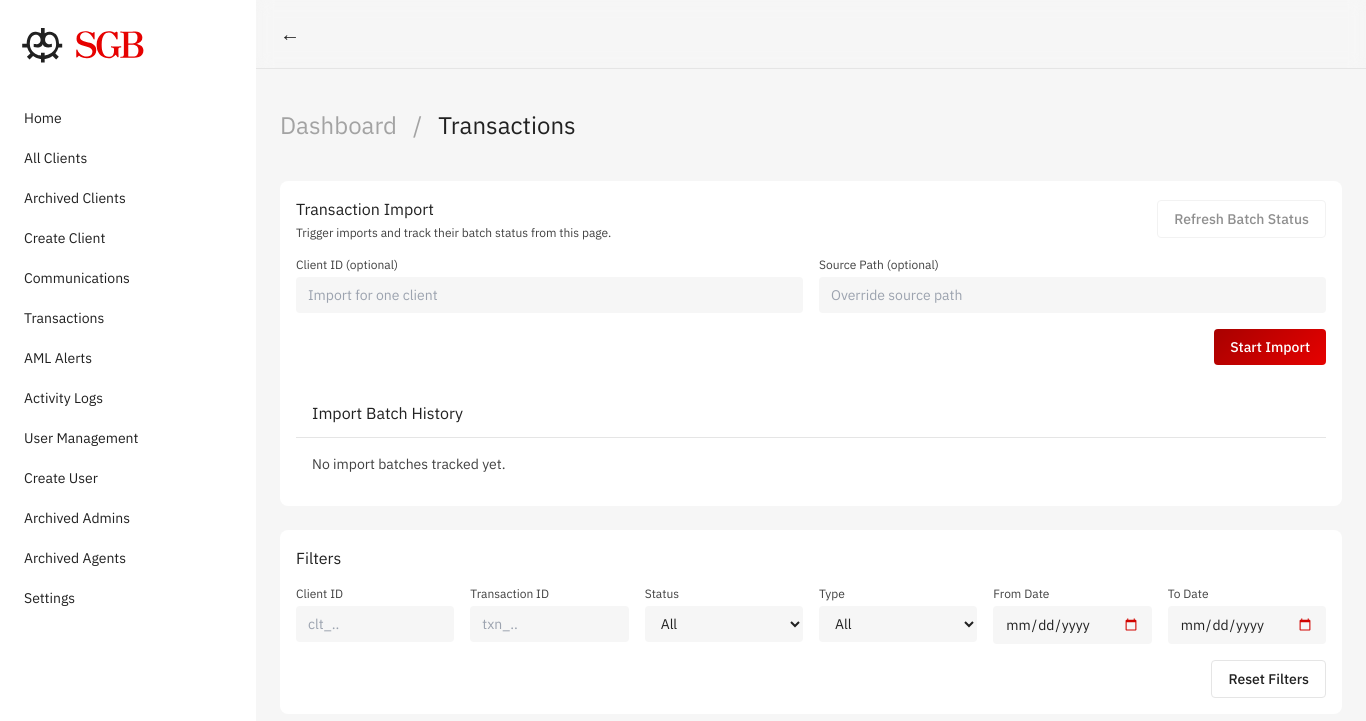
Test: ViewTransactionsPage › shows import error notice when starting import fails
Expected: the element with test id "transaction-import-panel" is shown, [280, 181, 1342, 506]
Click the button "Start Import": (1270, 347) [1214, 329, 1326, 365]
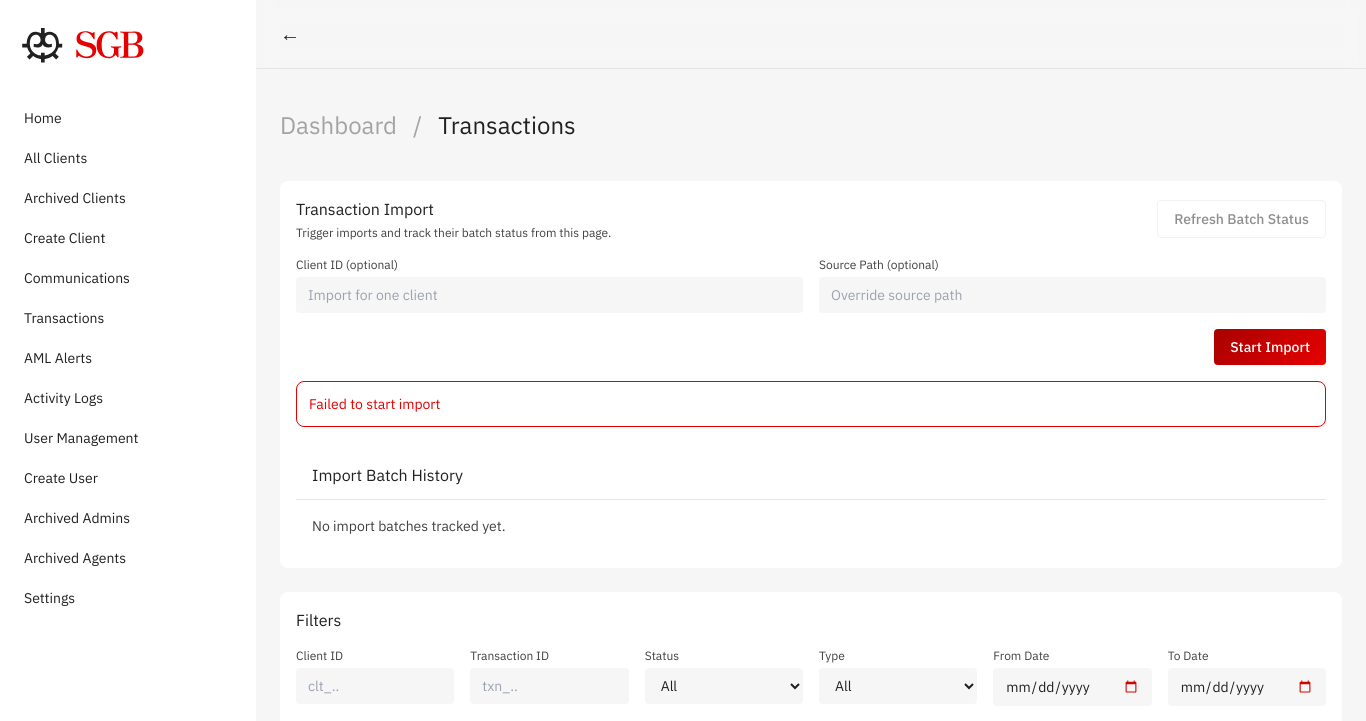
Now the text "Failed to start import" is shown, box [309, 395, 440, 413]
